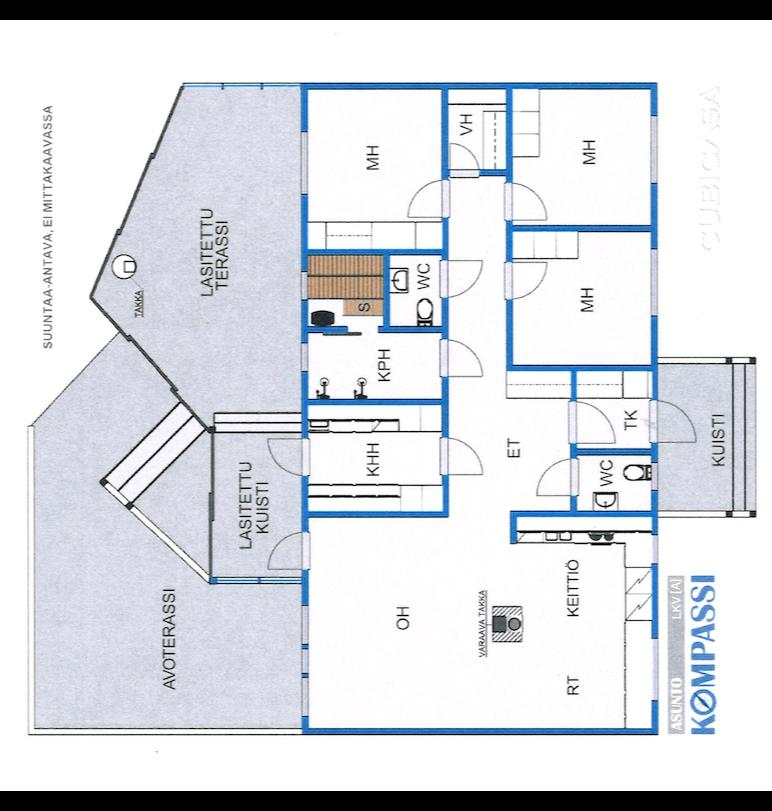door: (432, 250, 484, 301), (564, 399, 616, 447), (646, 398, 699, 445), (500, 176, 549, 226), (264, 524, 312, 575), (499, 258, 550, 304), (436, 430, 484, 478), (404, 178, 454, 223), (532, 456, 580, 502), (434, 338, 481, 384), (266, 433, 310, 480), (445, 139, 484, 180)
window: (642, 111, 662, 190), (644, 242, 663, 322), (296, 126, 316, 198), (644, 632, 660, 704), (296, 674, 314, 724), (295, 601, 312, 648), (258, 76, 306, 92), (178, 74, 223, 91), (257, 572, 302, 588), (212, 574, 259, 588), (220, 77, 260, 92), (648, 527, 662, 569), (296, 268, 310, 304), (296, 342, 310, 378), (296, 646, 312, 676)
